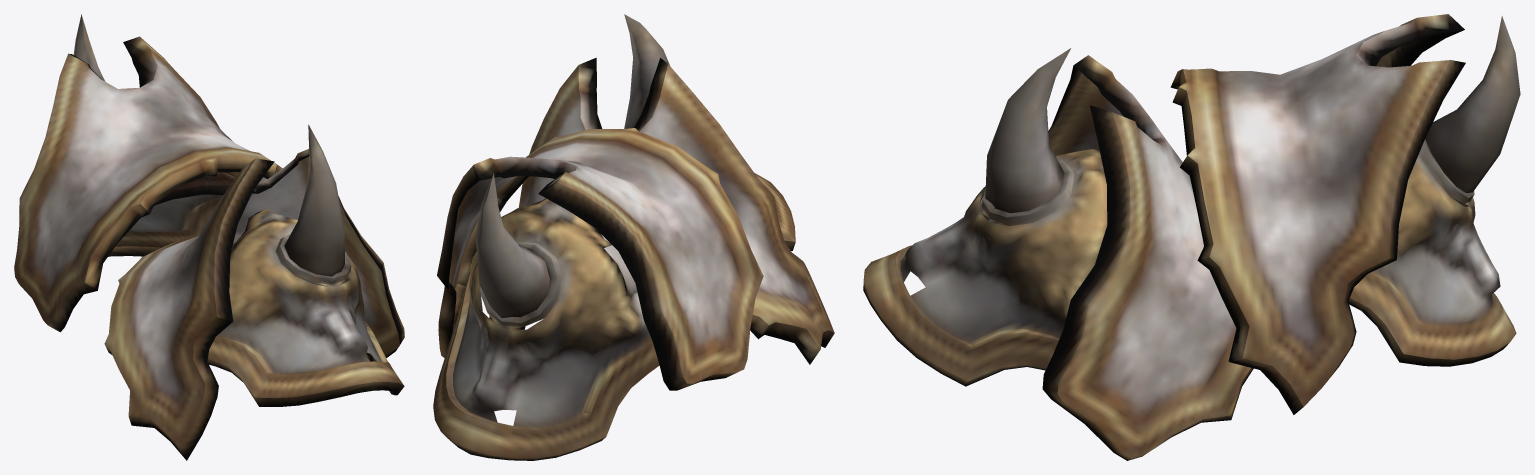
Rendered from armor_clavicle.FBX.
3 renders of one model, left to right at view 1: azimuth 30°, elevation 25°; view 2: azimuth 150°, elevation 25°; view 3: azimuth 270°, elevation 25°, orthographic. The views are drawn at different scales.
Visible parts, largest first — view 1: armor_clavicle; view 2: armor_clavicle; view 3: armor_clavicle.
Boxes of the visible parts, x1,y1,x2,y2 form: armor_clavicle: (14,14,404,460); armor_clavicle: (433,14,834,460); armor_clavicle: (863,14,1520,460).
Size of the model in its own units: 22.79 by 23.34 by 37.57.
1 material, 1 textured.
